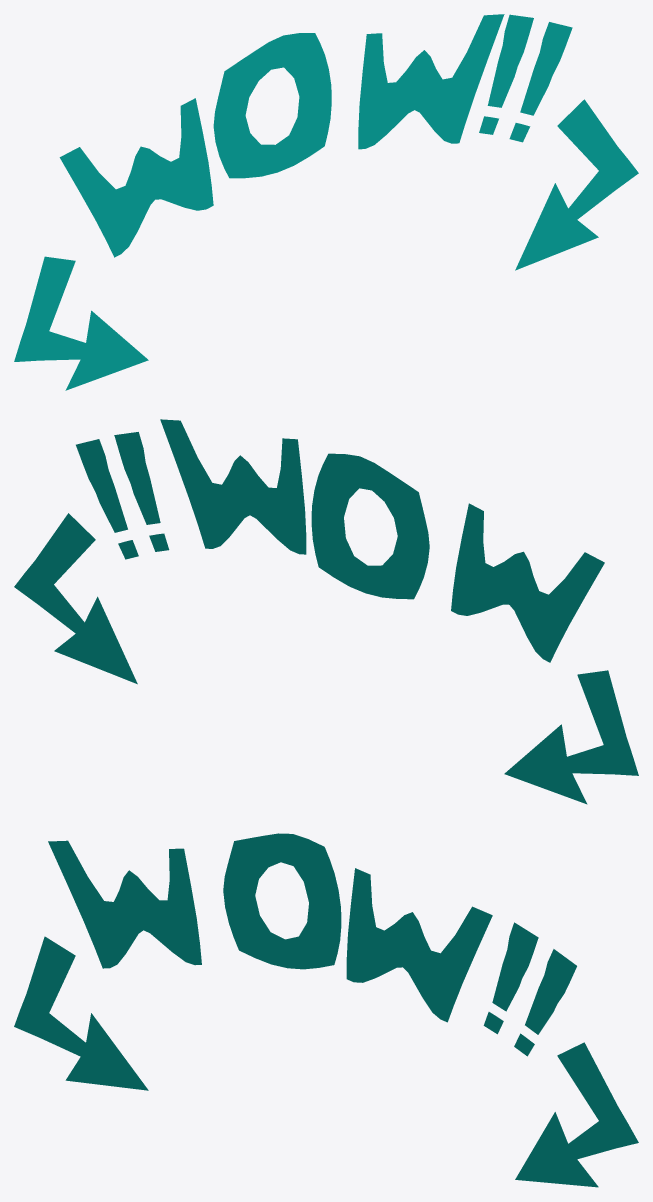
File: mesh_text_wow.fbx
3 views of the same model, one above another, from view 1: azimuth 30°, elevation 25°; view 2: azimuth 150°, elevation 25°; view 3: azimuth 330°, elevation 25° (orthographic).
Visible parts, largest first — view 1: mesh_text_wow9, mesh_text_wow8, mesh_text_wow; view 2: mesh_text_wow9, mesh_text_wow8, mesh_text_wow; view 3: mesh_text_wow9, mesh_text_wow8, mesh_text_wow.
Part boxes in pixels (x1,y1,x2,y2): mesh_text_wow9: (59, 14, 572, 257); mesh_text_wow8: (515, 99, 638, 270); mesh_text_wow: (14, 256, 148, 390); mesh_text_wow9: (76, 419, 604, 662); mesh_text_wow8: (14, 513, 137, 684); mesh_text_wow: (504, 670, 638, 804); mesh_text_wow9: (48, 833, 576, 1056); mesh_text_wow8: (515, 1042, 638, 1187); mesh_text_wow: (14, 936, 148, 1090).
Bounding box in the file's own units: 0.129 × 0.0587 × 0.00381.
